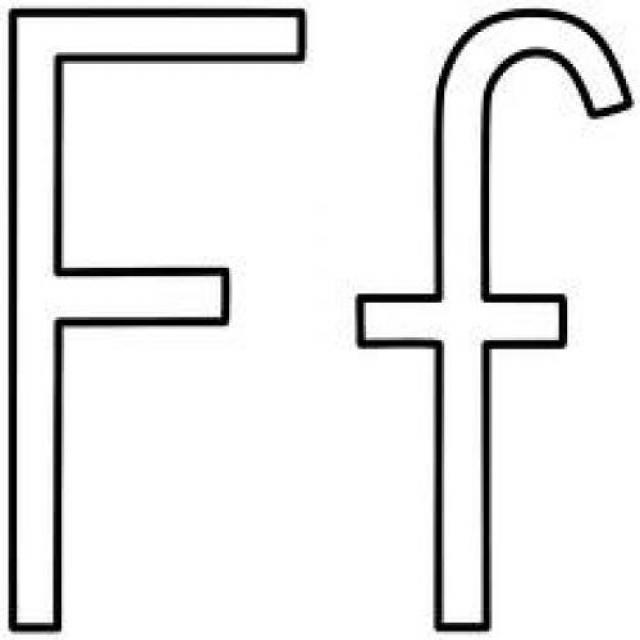F: (2, 2, 334, 631)
